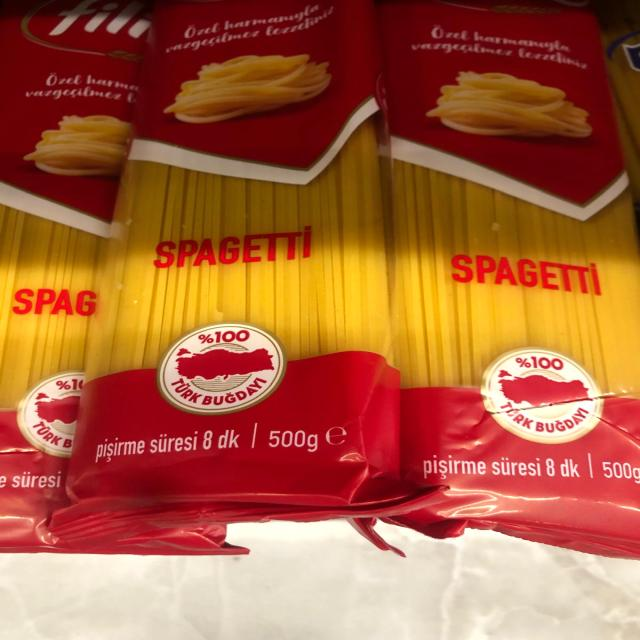spaghetti: (84, 0, 413, 505), (366, 0, 640, 497)
